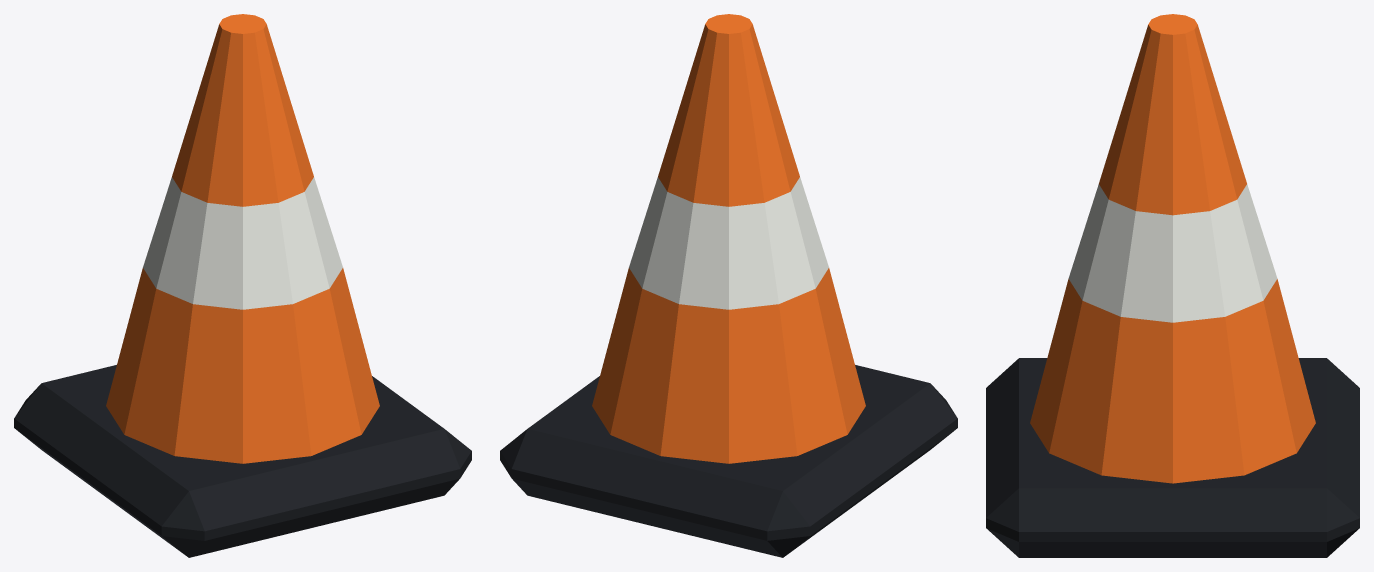
The model's file is traffic_cone_papaya.glb.
3 renders of one model, left to right at view 1: azimuth 30°, elevation 25°; view 2: azimuth 150°, elevation 25°; view 3: azimuth 270°, elevation 25°, orthographic. The views are drawn at different scales.
Parts seen in each view (by area): view 1: traffic_cone_papaya__static; view 2: traffic_cone_papaya__static; view 3: traffic_cone_papaya__static.
Boxes of the visible parts, x1,y1,x2,y2 form: traffic_cone_papaya__static: (14, 14, 471, 557); traffic_cone_papaya__static: (500, 14, 957, 557); traffic_cone_papaya__static: (986, 14, 1359, 557).
Bounding box in the file's own units: 0.68 × 0.94 × 0.68.
